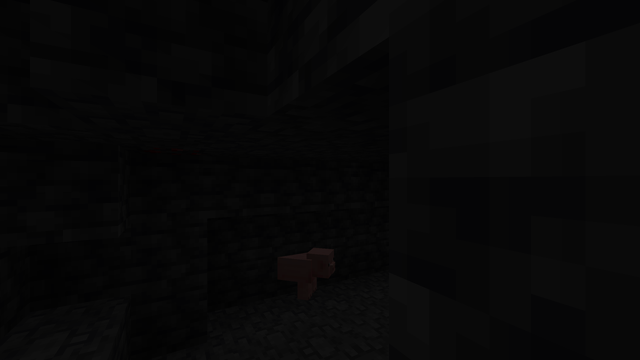cochons: (276, 250, 320, 303)
